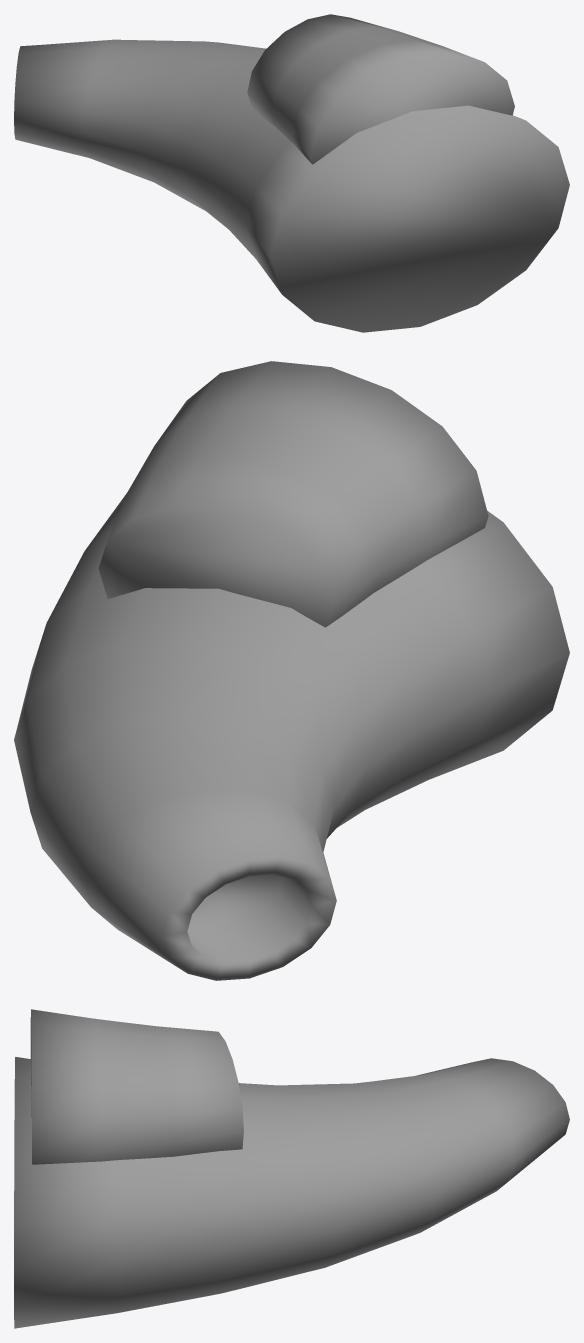
Rendered from SM_FrontBoomerang.fbx.
3 renders of one model, top to bottom at view 1: azimuth 30°, elevation 25°; view 2: azimuth 150°, elevation 25°; view 3: azimuth 270°, elevation 25°, orthographic. The views are drawn at different scales.
Parts seen in each view (by area): view 1: FrontBoomerang; view 2: FrontBoomerang; view 3: FrontBoomerang.
Boxes of the visible parts, box(x1,y1,x2,y2) form: FrontBoomerang: box(14, 14, 569, 332); FrontBoomerang: box(14, 361, 569, 980); FrontBoomerang: box(14, 1009, 569, 1328).
Bounding box in the file's own units: 1.26 × 0.9057 × 1.62.
1 material, 1 textured.
